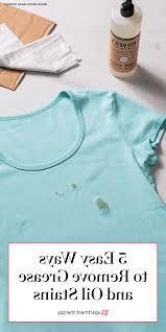oil: (95, 190, 116, 211), (49, 188, 65, 208), (71, 179, 80, 191)
